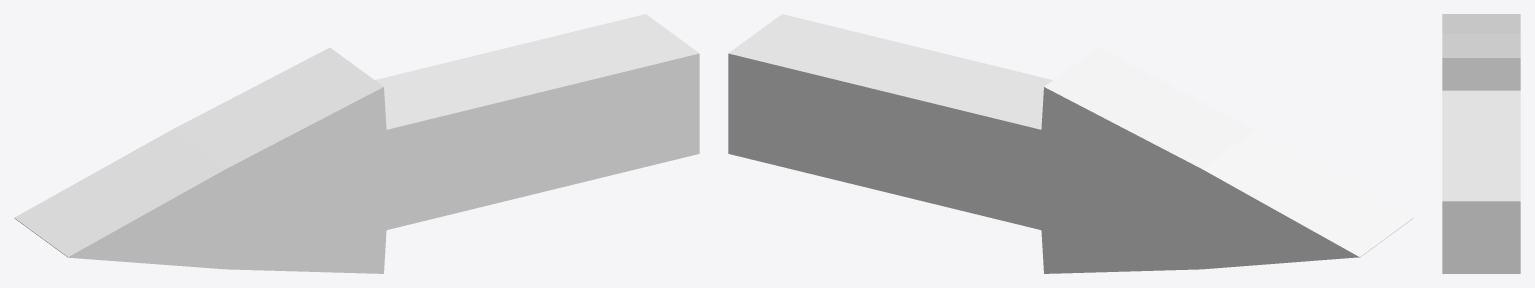
File: SelectArrow.obj
3 views of the same model, side by side, from view 1: azimuth 30°, elevation 25°; view 2: azimuth 150°, elevation 25°; view 3: azimuth 270°, elevation 25° (orthographic). The views are drawn at different scales.
Visible parts, largest first — view 1: Cube.001; view 2: Cube.001; view 3: Cube.001.
Boxes of the visible parts, <box> form: Cube.001: <box>14,14,699,273</box>; Cube.001: <box>728,14,1413,273</box>; Cube.001: <box>1442,14,1520,273</box>.
Size of the model in its own units: 2.47 by 0.7006 by 0.366.
1 material, 1 textured.
